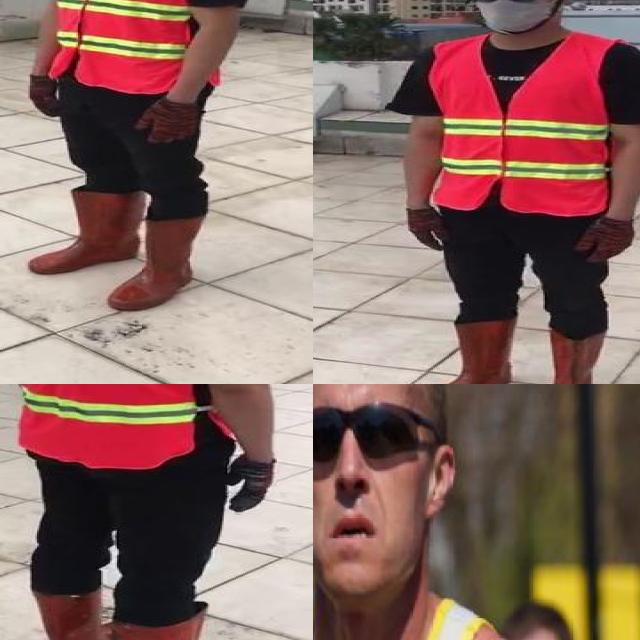boots: (28, 190, 142, 276), (108, 219, 206, 311), (429, 320, 511, 384), (29, 588, 113, 640), (109, 610, 250, 640), (546, 330, 605, 384)
face_mask: (467, 0, 556, 33)
face_nomask: (313, 408, 418, 554)
glasses: (313, 407, 442, 460)
hand_glove: (129, 98, 199, 143), (228, 456, 274, 513), (575, 220, 634, 263), (405, 209, 449, 251), (26, 73, 60, 119)
person: (378, 0, 640, 384), (13, 0, 258, 315), (0, 384, 301, 640), (313, 384, 576, 640)
vest: (431, 35, 611, 214), (0, 384, 212, 470), (53, 0, 223, 93)
